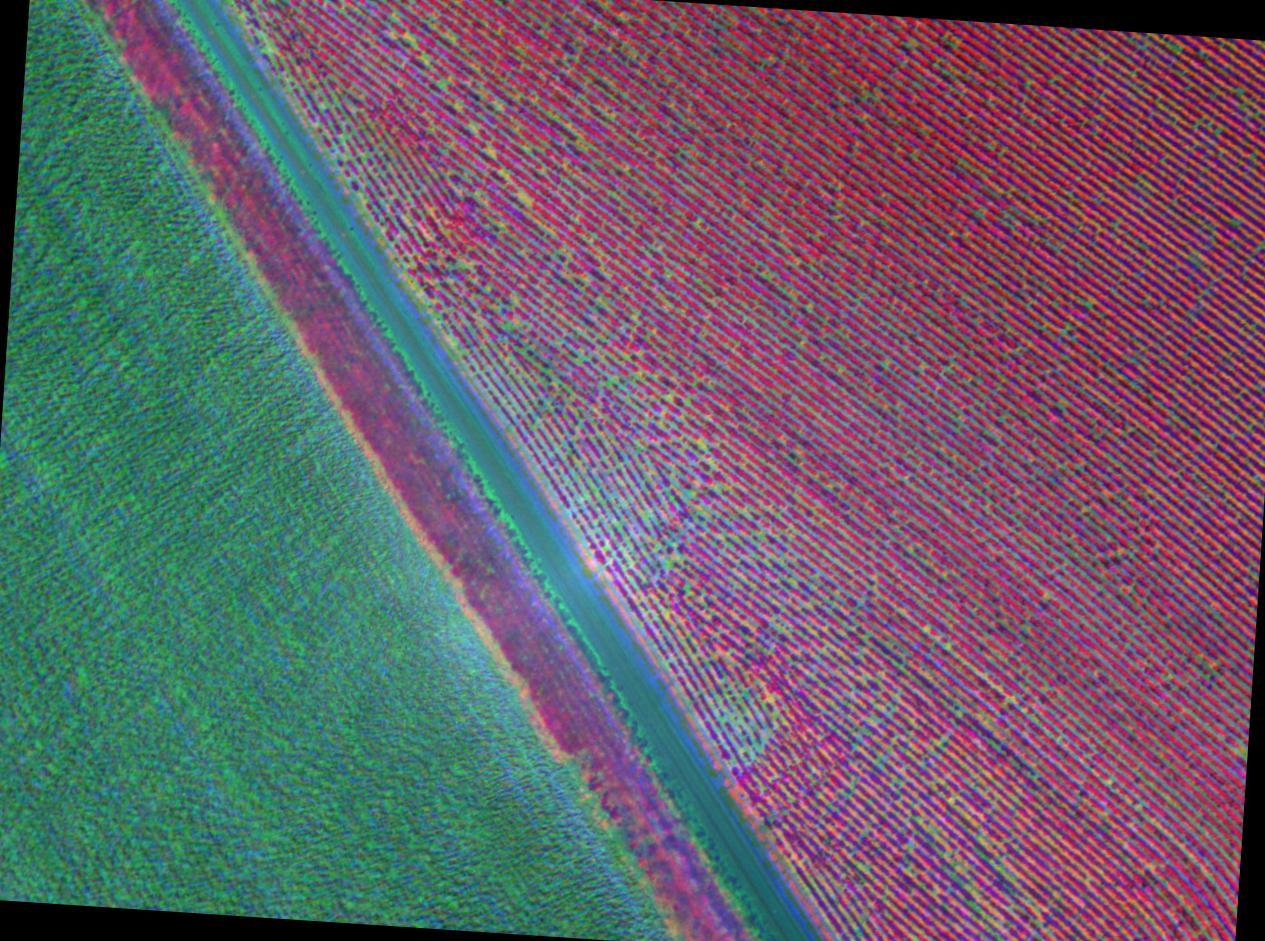dc: (509, 355, 514, 360), (521, 193, 526, 197), (407, 37, 411, 42), (268, 45, 273, 49), (363, 155, 367, 159), (410, 263, 414, 267), (701, 441, 705, 445), (645, 473, 649, 477), (688, 493, 692, 497), (641, 513, 645, 517), (923, 629, 927, 633), (440, 79, 444, 83), (323, 104, 326, 108), (548, 405, 551, 409), (1106, 783, 1110, 786)
